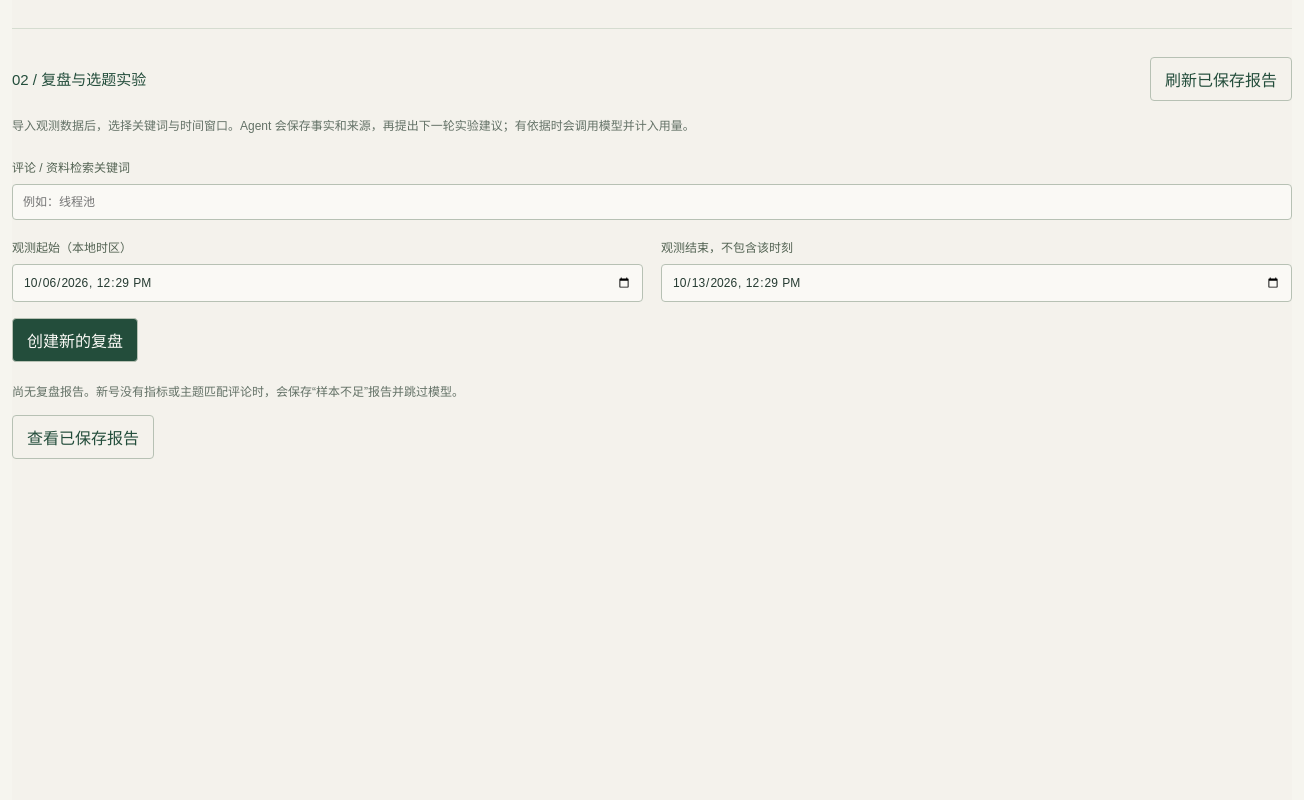
accepts a generated report with an ID-only publication and clears its pending request
The width and height of the screenshot is (1304, 800).
Type "线程池" into the field named "复盘关键词" at (652, 202), box [12, 184, 1292, 220]
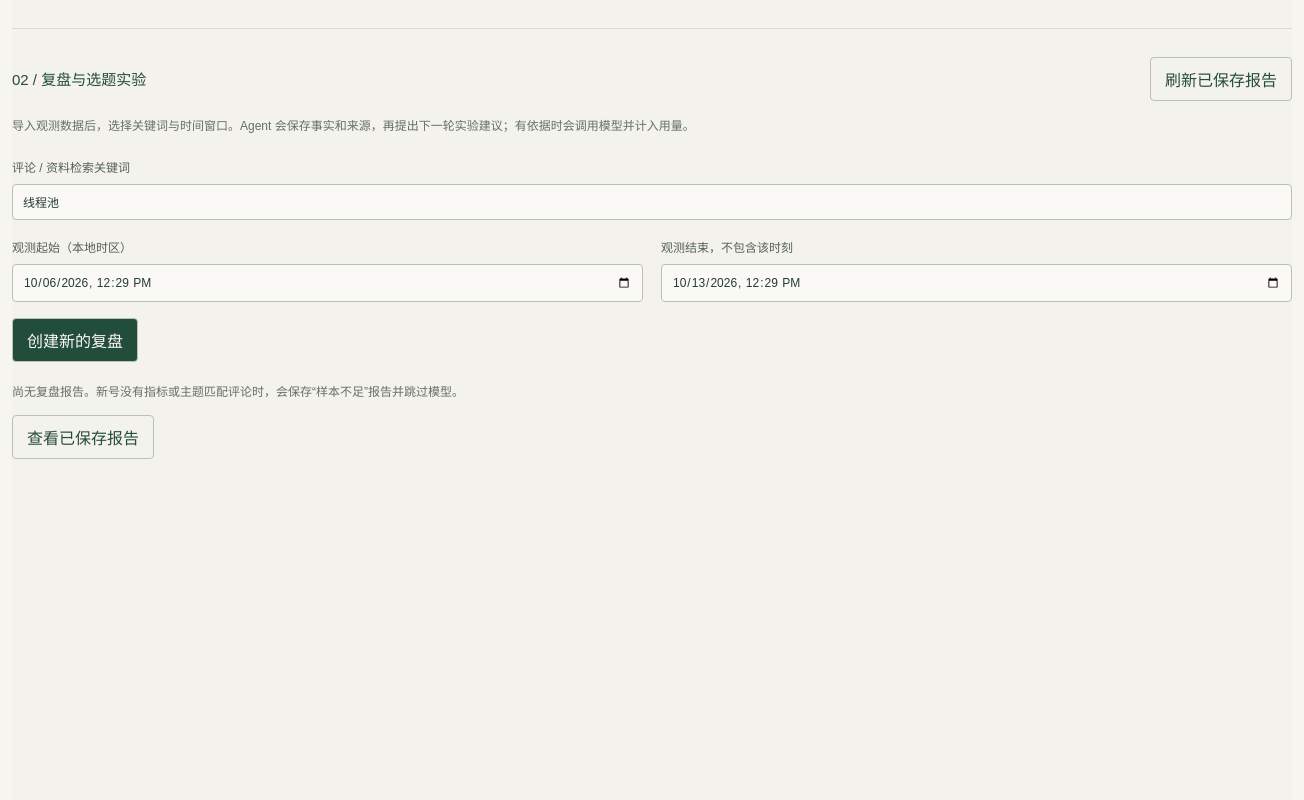
Submit the form, box [12, 158, 1292, 362]
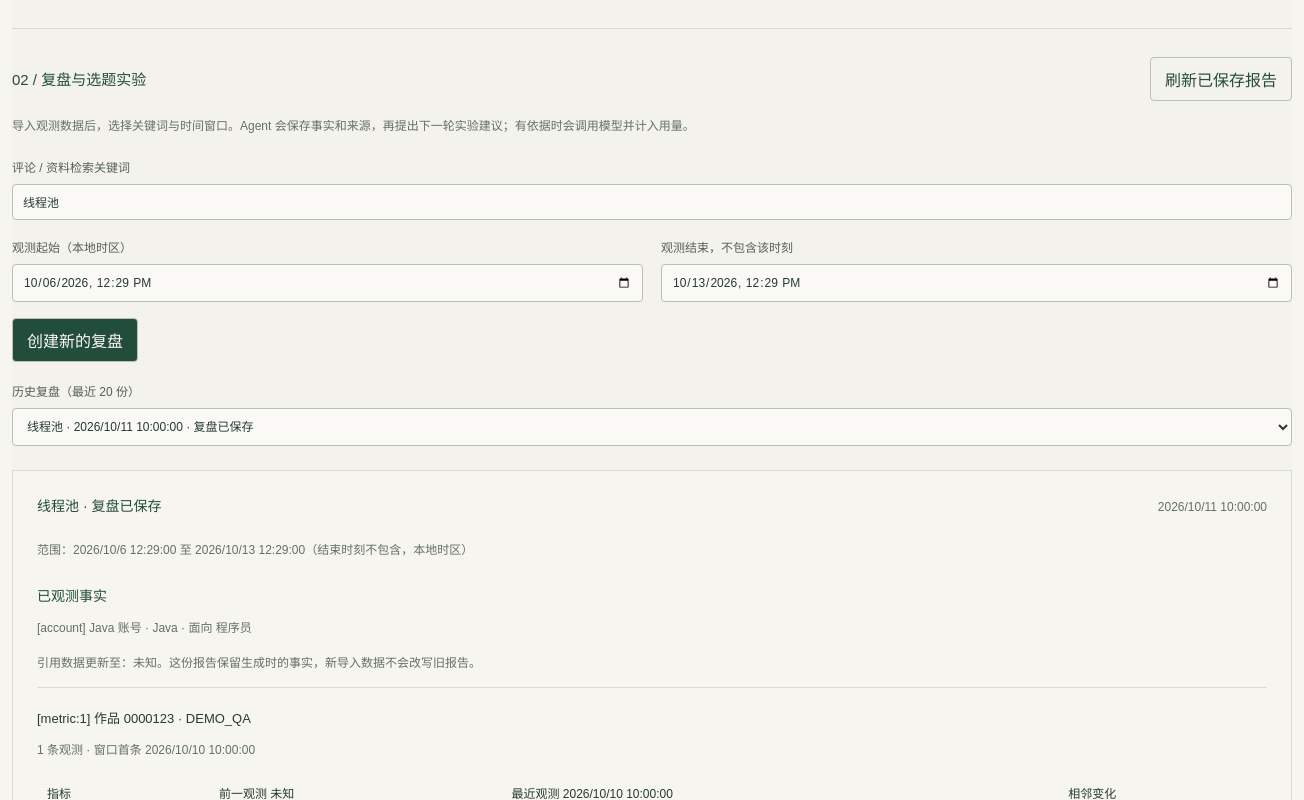
Expected: the element showing "评论 / 资料检索关键词 观测起始（本地时区） 观测结束，不包含该时刻" is enabled, [12, 158, 1292, 302]
Result: the text "复盘已保存" is shown at [37, 498, 162, 514]
